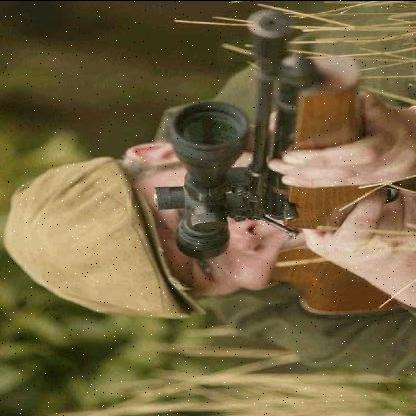rifle: (142, 1, 415, 327)
